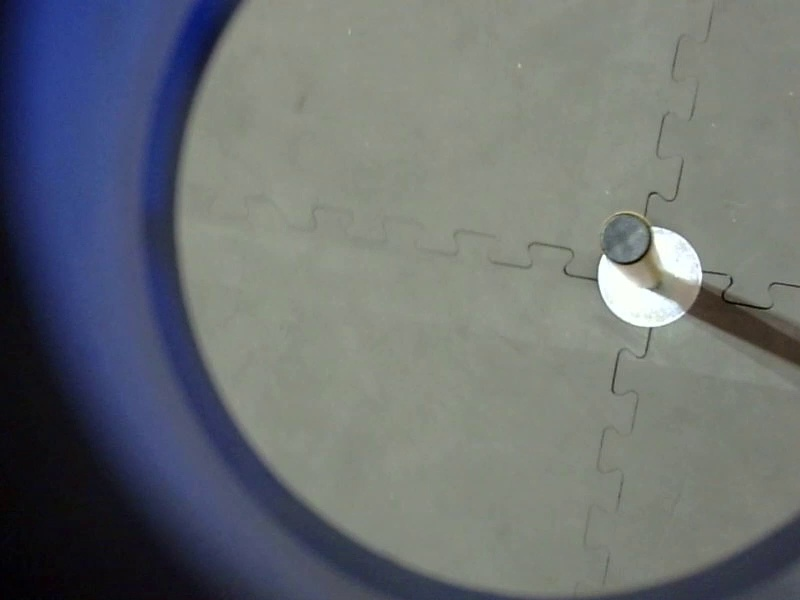tip: (596, 208, 653, 270)
